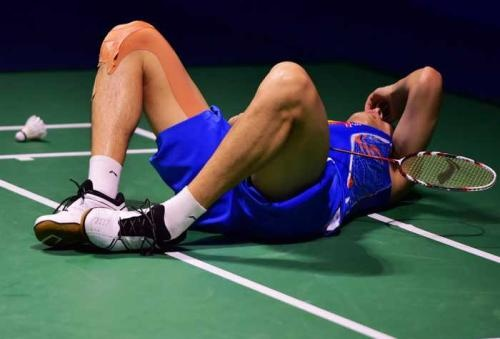falling: (28, 10, 469, 261)
